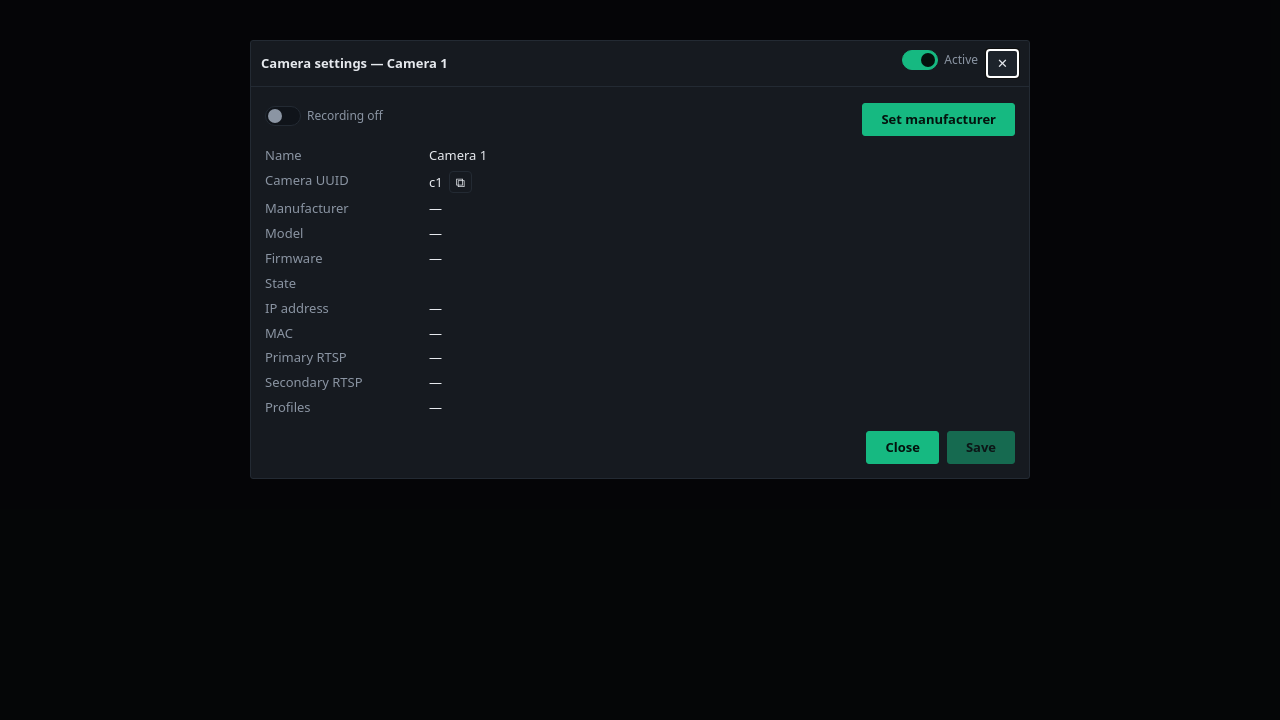
CameraSettingsModal: draft and Save (spec save-button) › 2.1-T2 409 from the disk gate lands on Save: the switch KEEPS the operator value
Expected: the text "Recording off" is shown, [307,107,383,124]
Click the checkbox with class "nx-switch" showing "Recording off". click: (283, 116)
box: [265,106,301,126]
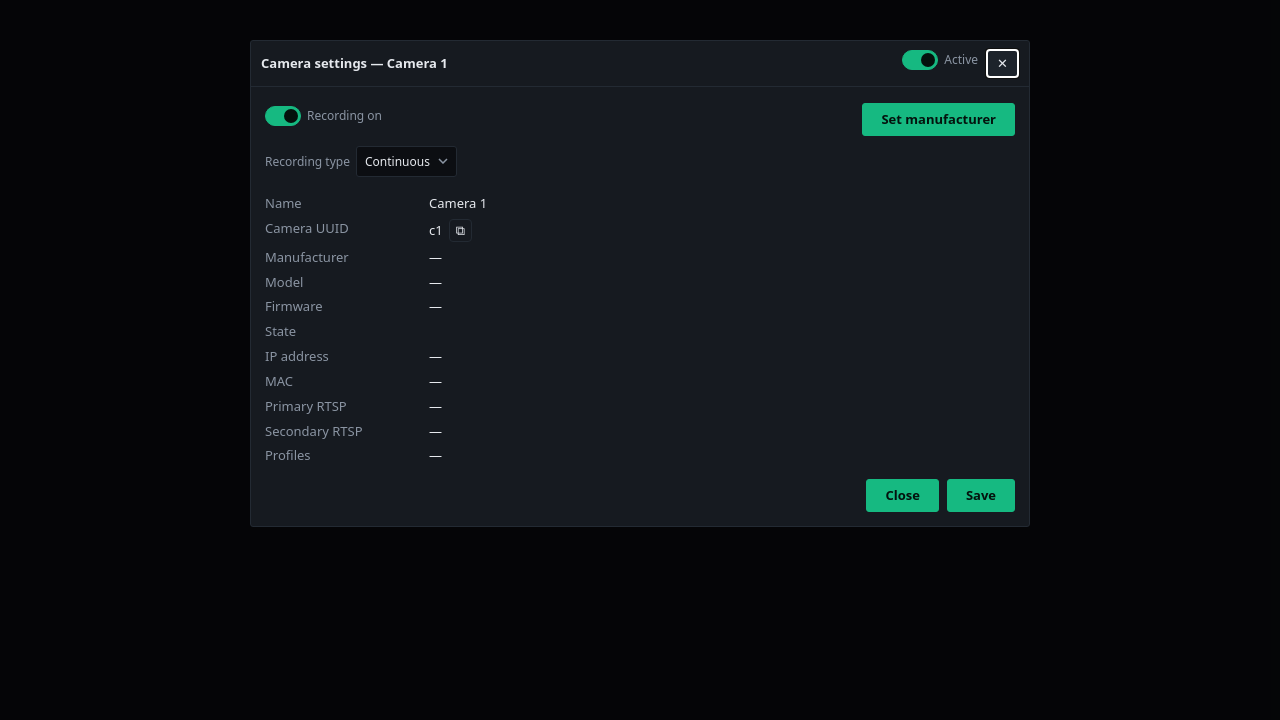
Click the button "Save". click: (981, 496)
box: [947,479,1015,512]
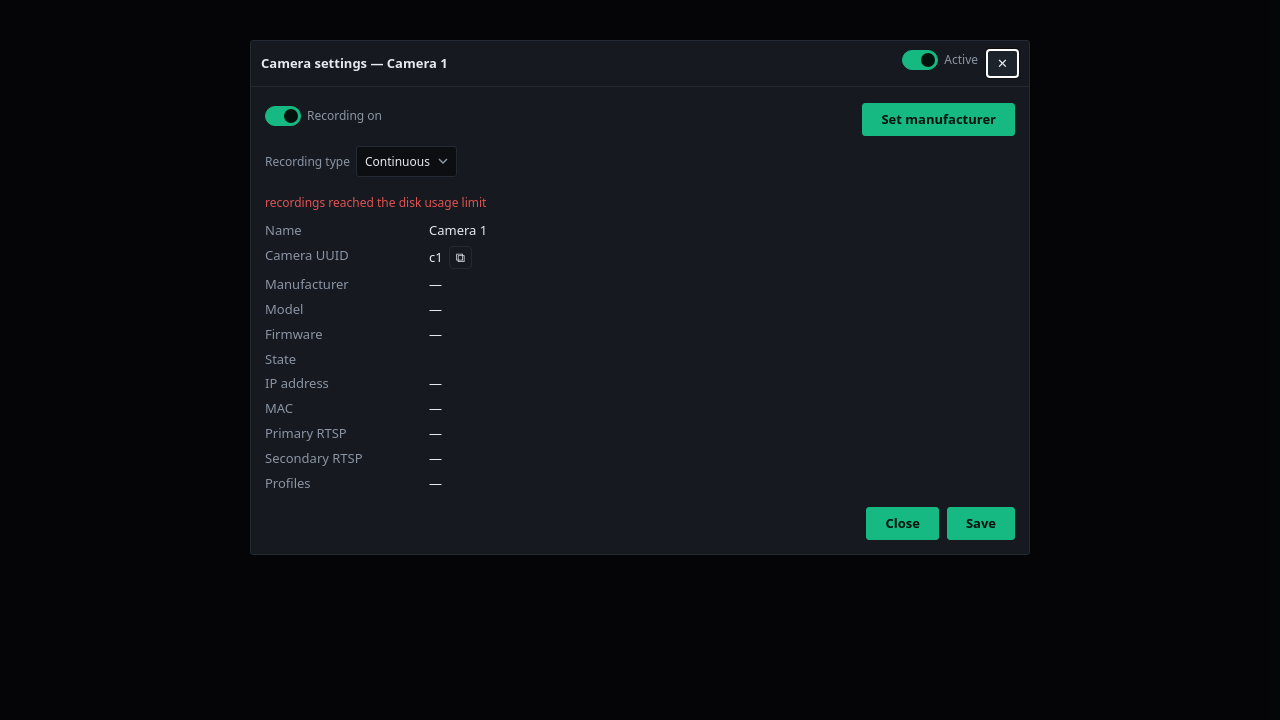
Result: the text "Recording on" is shown at [307,107,382,124]
Result: the button "Save" is enabled at [947,507,1015,540]
Result: the text "recordings reached the disk usage limit" is shown at [265,194,486,211]
